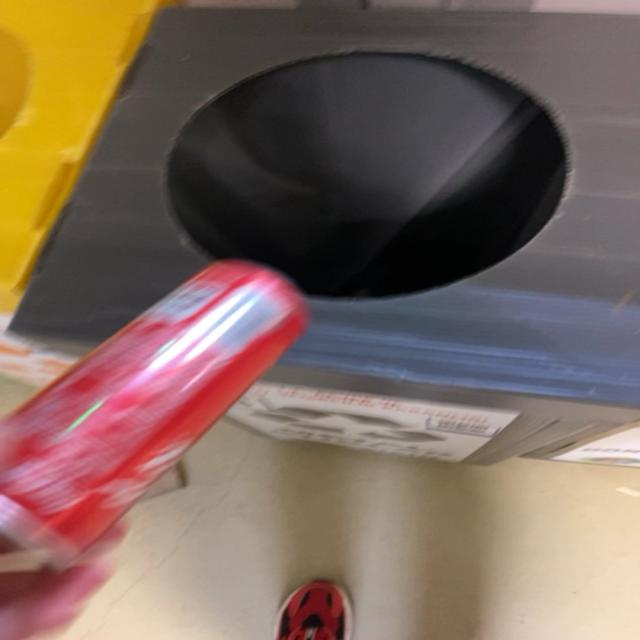bin: (11, 8, 639, 406), (11, 8, 639, 405)
metal: (0, 260, 308, 571)
